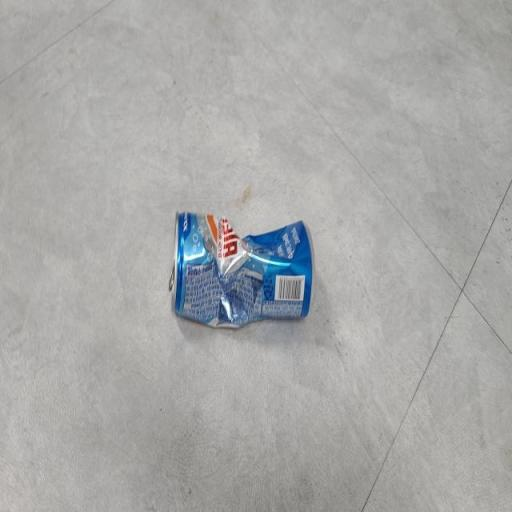metal: (160, 184, 323, 360)
